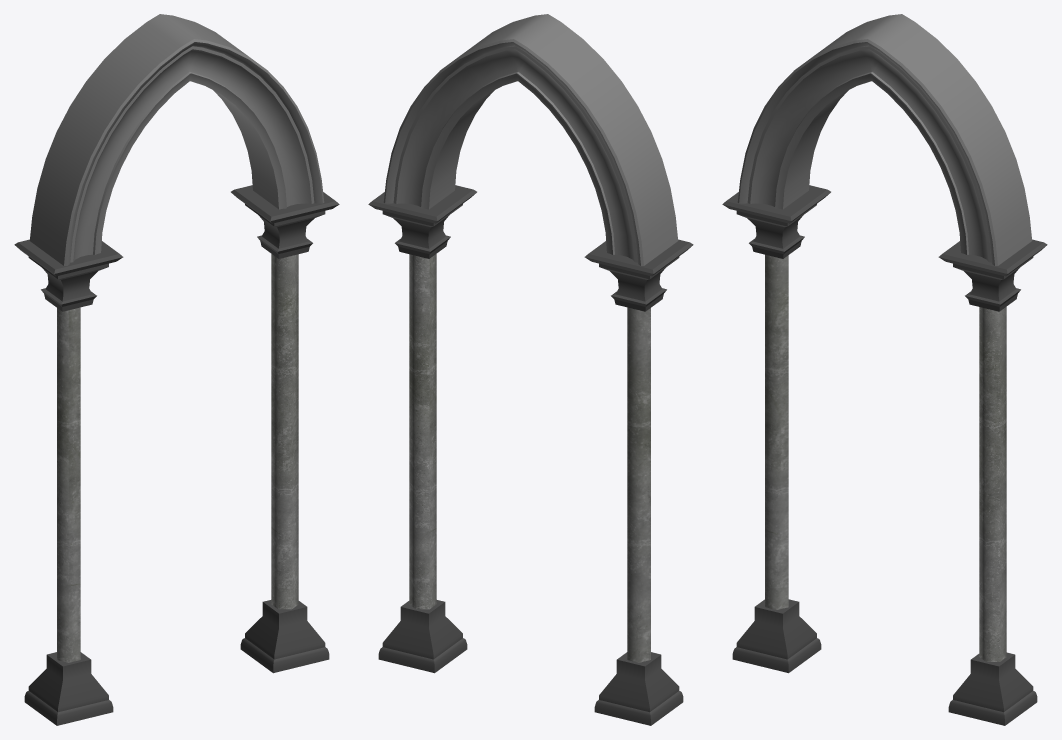
Rendered from SM_arch_04.fbx.
3 renders of one model, left to right at view 1: azimuth 30°, elevation 25°; view 2: azimuth 150°, elevation 25°; view 3: azimuth 330°, elevation 25°, orthographic.
Parts seen in each view (by area): view 1: DarkFantasyObject20; view 2: DarkFantasyObject20; view 3: DarkFantasyObject20.
Boxes of the visible parts, x1=… form: DarkFantasyObject20: x1=14, y1=14, x2=339, y2=725; DarkFantasyObject20: x1=368, y1=14, x2=693, y2=725; DarkFantasyObject20: x1=722, y1=14, x2=1047, y2=725.
Size of the model in its own units: 106 by 232 by 25.72.
